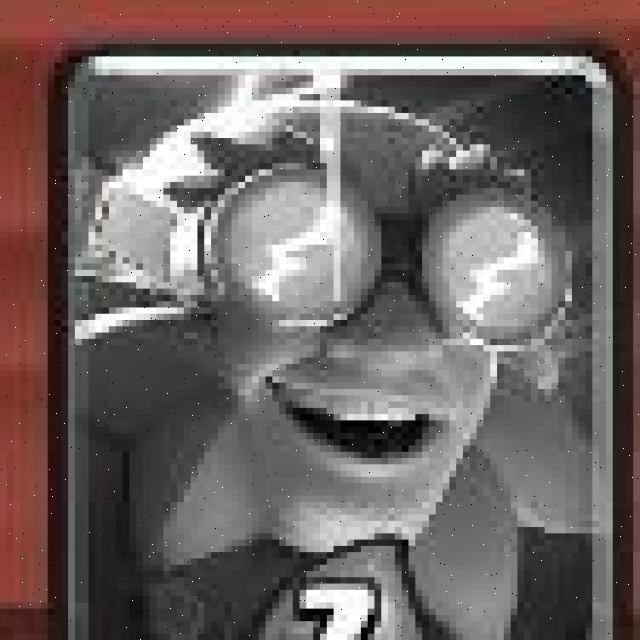Electro_Giant: (48, 46, 637, 640)
